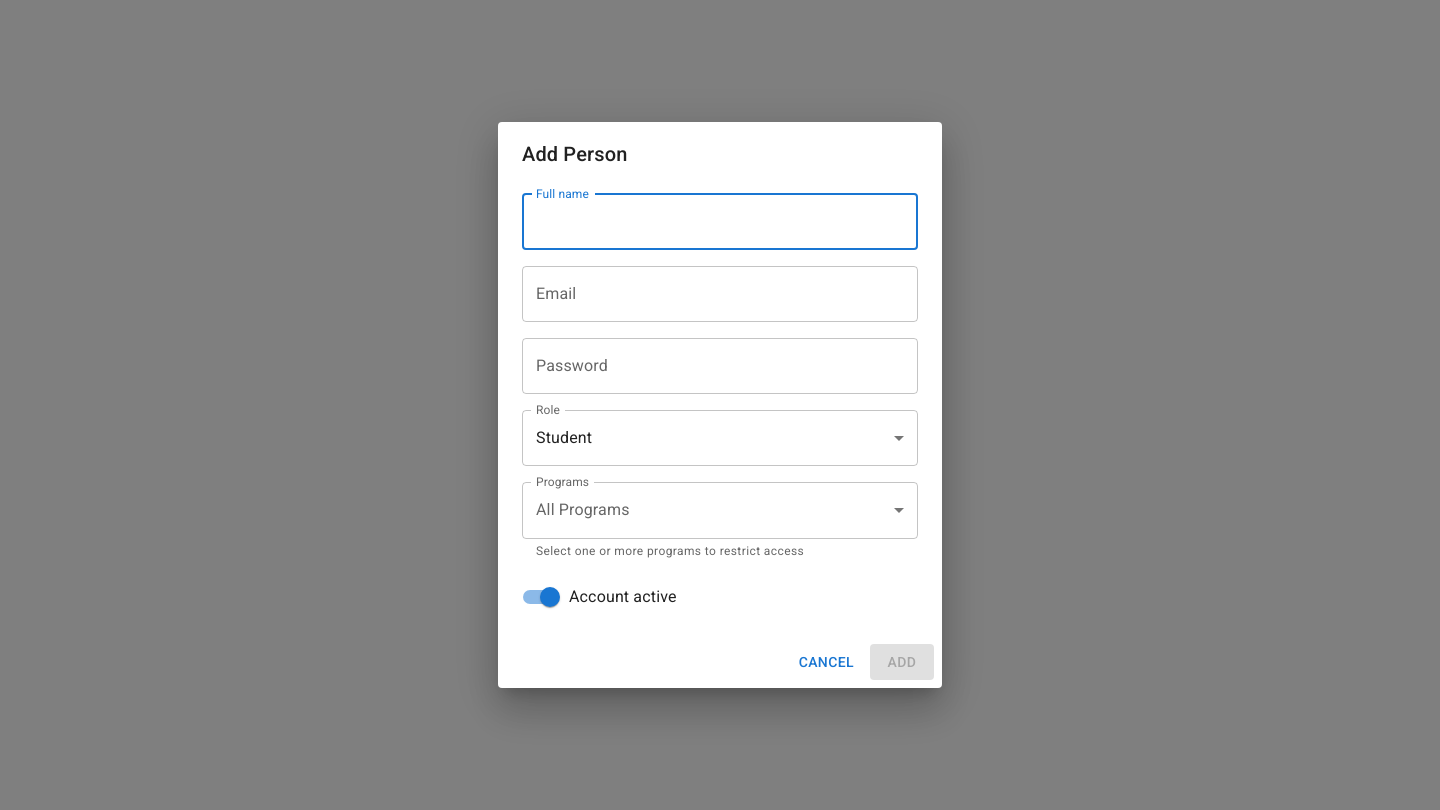
AddEditPersonModal › shows staff-specific helper text when role is staff
Click the dropdown labelled "Student" at (564, 438), box [536,428,592,447]
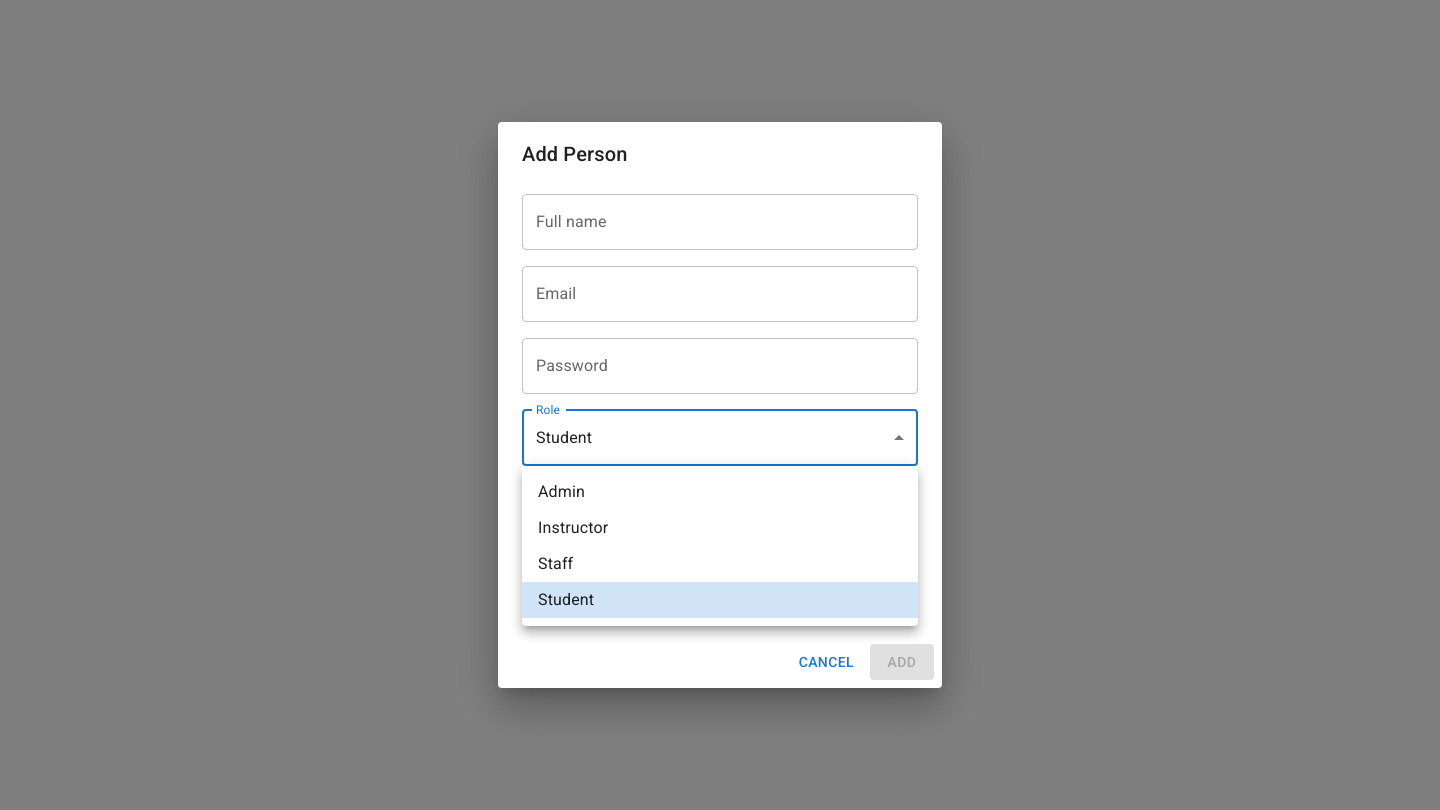
Click the option "Staff" at (556, 564), box [538,554,573,573]
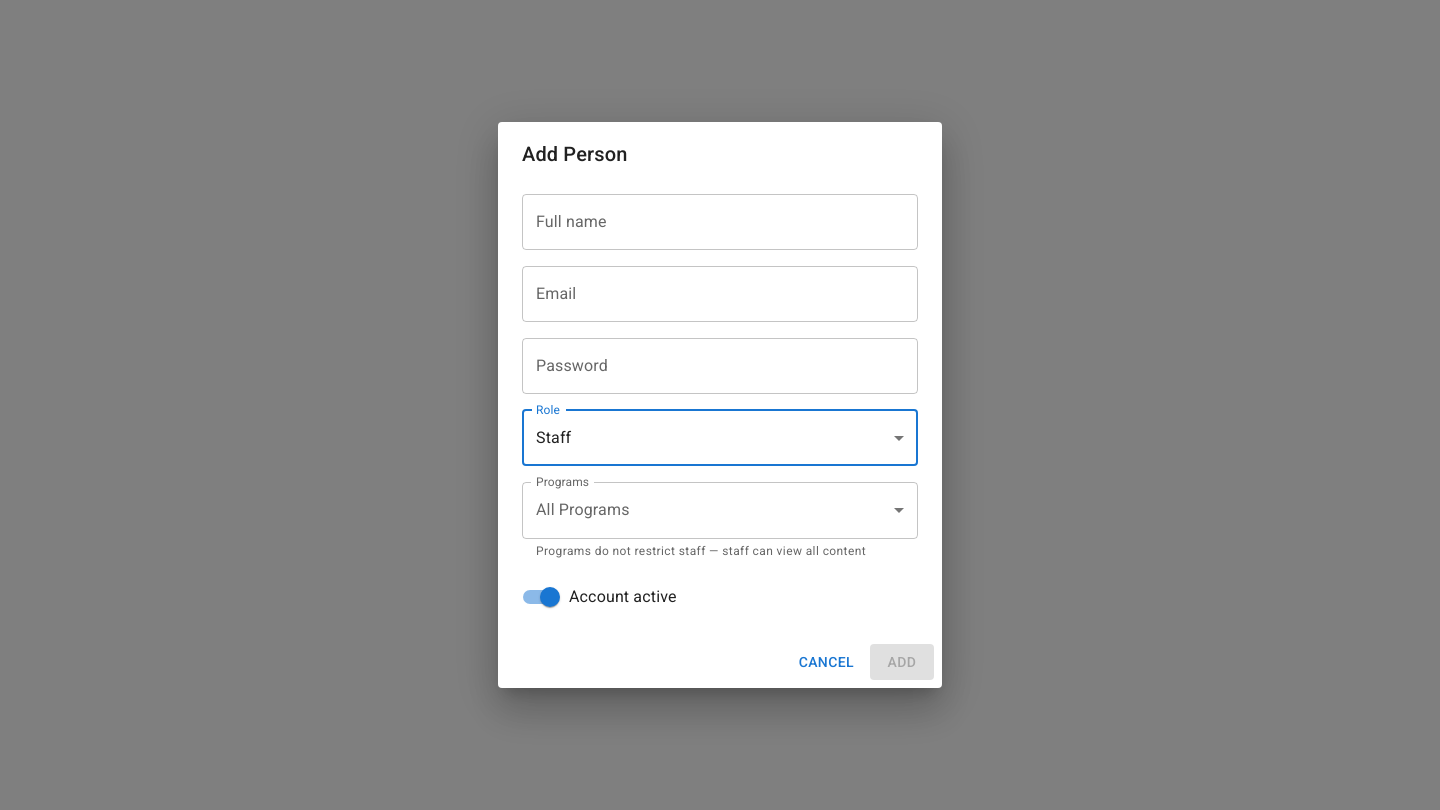
Check: the text "Programs do not restrict staff — staff can view all content" is shown, box [536,542,904,562]
